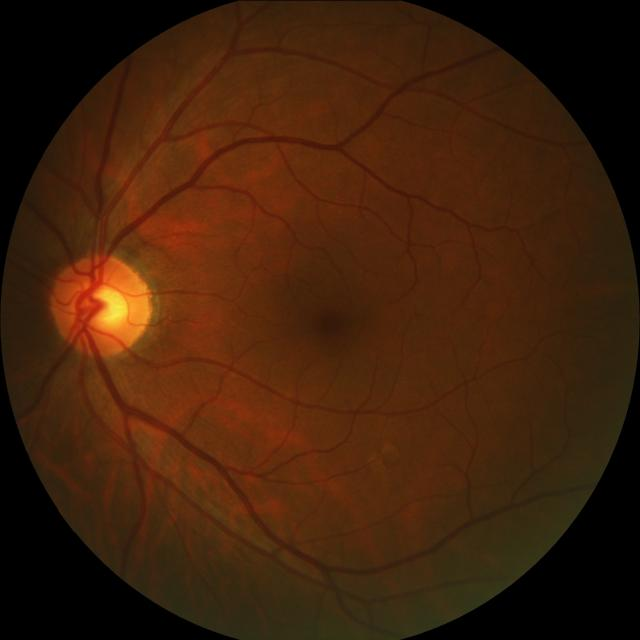OC: (78, 280, 129, 332)
OD: (53, 253, 154, 355)
